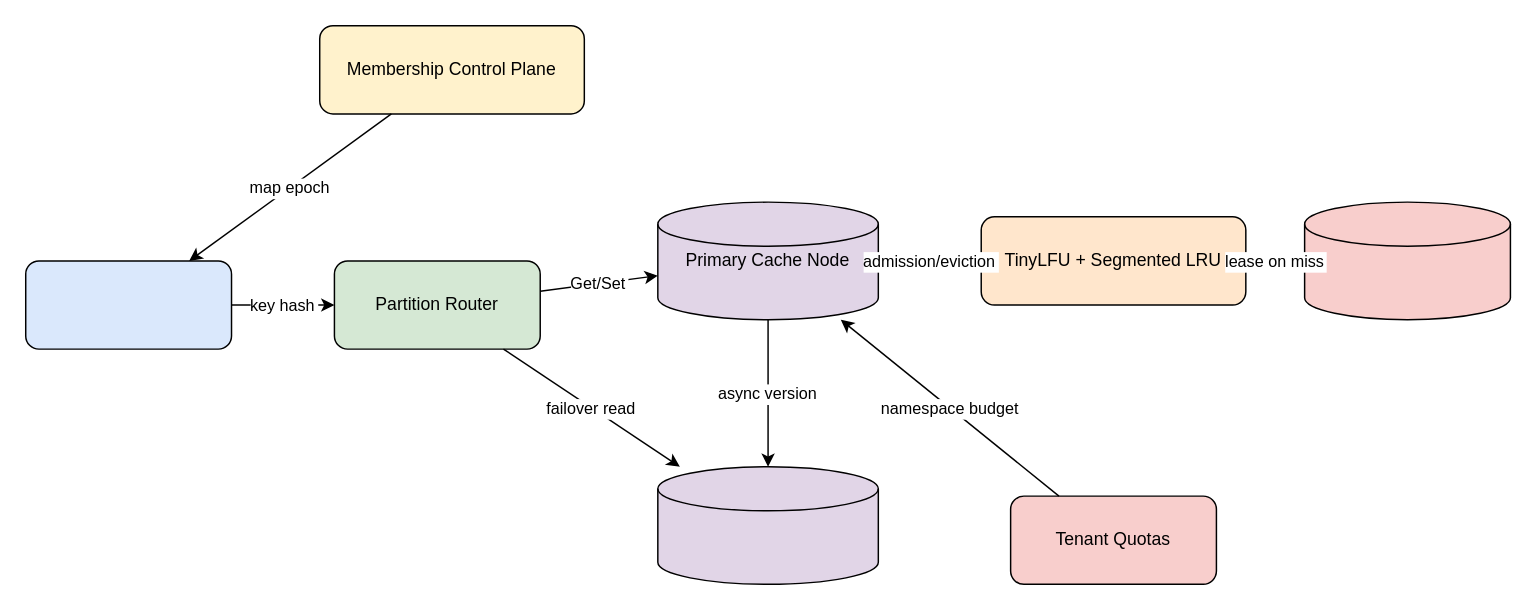
The diagram is 1536 pixels wide and 610 high, and some of its shapes have lost their labels. The centre of each missing label's shape, as x and y in pixels:
"Client Library" belongs at point 128,304.
"Replica Cache Node" belongs at point 767,524.
"Source Database" belongs at point 1406,260.
